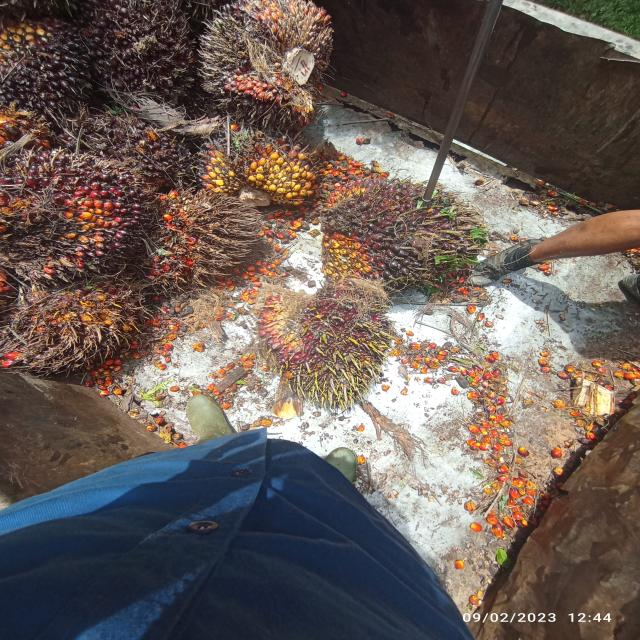fraksi 00: (328, 165, 497, 303), (198, 0, 345, 120), (196, 120, 328, 219), (78, 3, 198, 101), (0, 14, 104, 120)
fraksi 1: (220, 256, 453, 426), (10, 154, 143, 283)
fraksi 4: (6, 284, 156, 371), (142, 182, 253, 292)
